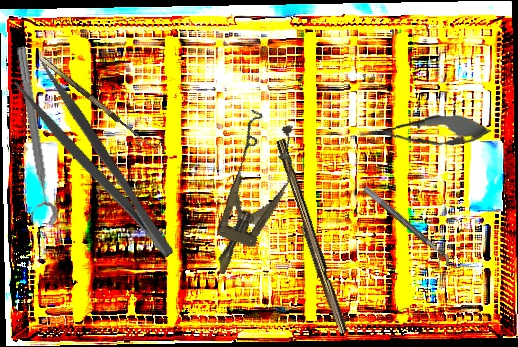Dressing Forceps: (12, 59, 179, 273)
Fixation Ring: (1, 45, 60, 229), (356, 185, 453, 272)
Hook Surgical: (39, 50, 162, 152)
Micro Scissor: (358, 113, 492, 150)
Scalpel Handle: (269, 138, 352, 336)
Speculum: (192, 109, 309, 285)
